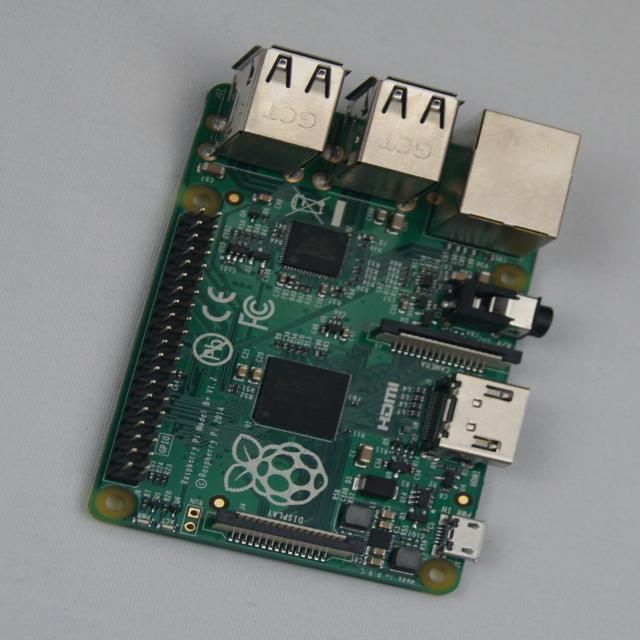Raspberry Pi 1 B-: (92, 47, 580, 594)
